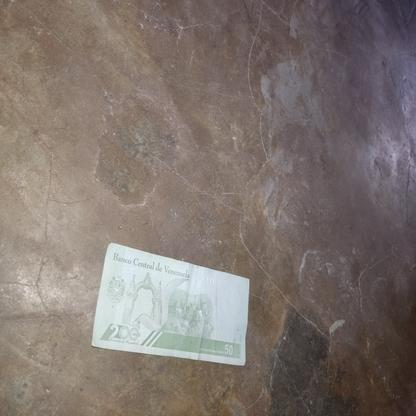fifty-back-vef: (91, 242, 250, 365)
